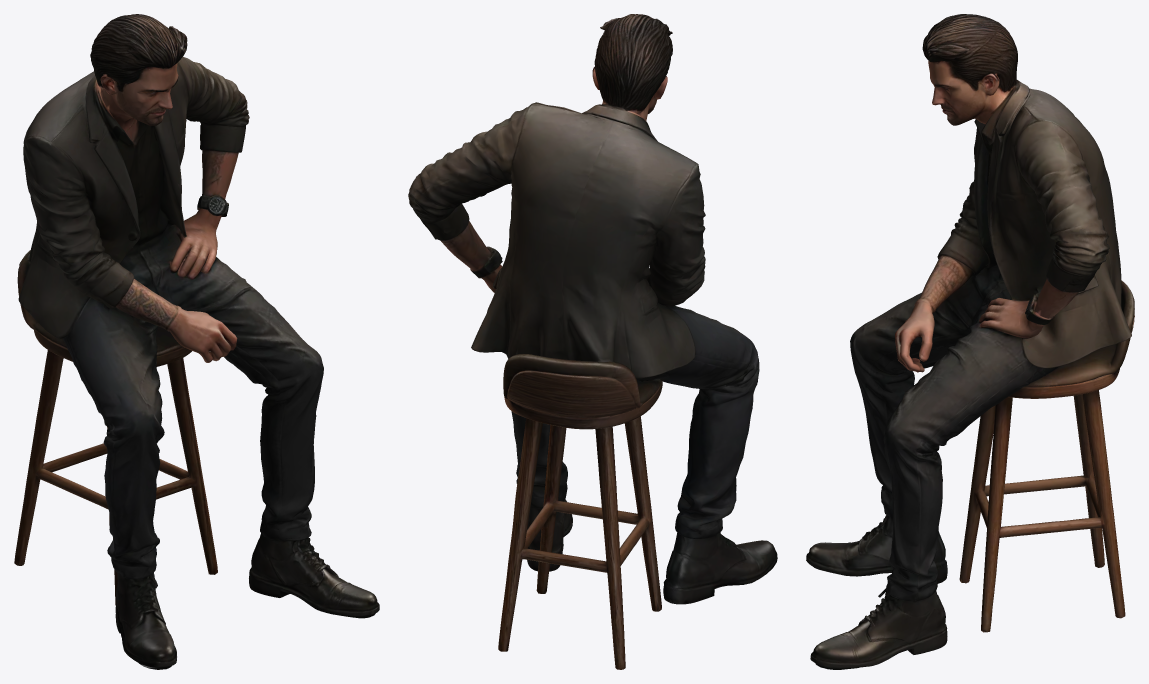
File: ragman.glb
3 views of the same model, side by side, from view 1: azimuth 30°, elevation 25°; view 2: azimuth 150°, elevation 25°; view 3: azimuth 270°, elevation 25° (orthographic). The views are drawn at different scales.
Parts seen in each view (by area): view 1: tripo_node_9d67a4c2-b0af-4797-9d45-9679ec0e98f7; view 2: tripo_node_9d67a4c2-b0af-4797-9d45-9679ec0e98f7; view 3: tripo_node_9d67a4c2-b0af-4797-9d45-9679ec0e98f7.
Boxes of the visible parts, x1=… form: tripo_node_9d67a4c2-b0af-4797-9d45-9679ec0e98f7: x1=14, y1=14, x2=379, y2=669; tripo_node_9d67a4c2-b0af-4797-9d45-9679ec0e98f7: x1=408, y1=14, x2=777, y2=669; tripo_node_9d67a4c2-b0af-4797-9d45-9679ec0e98f7: x1=806, y1=14, x2=1134, y2=669.
Size of the model in its own units: 0.4471 by 0.9782 by 0.5087.
1 material, 1 textured.
